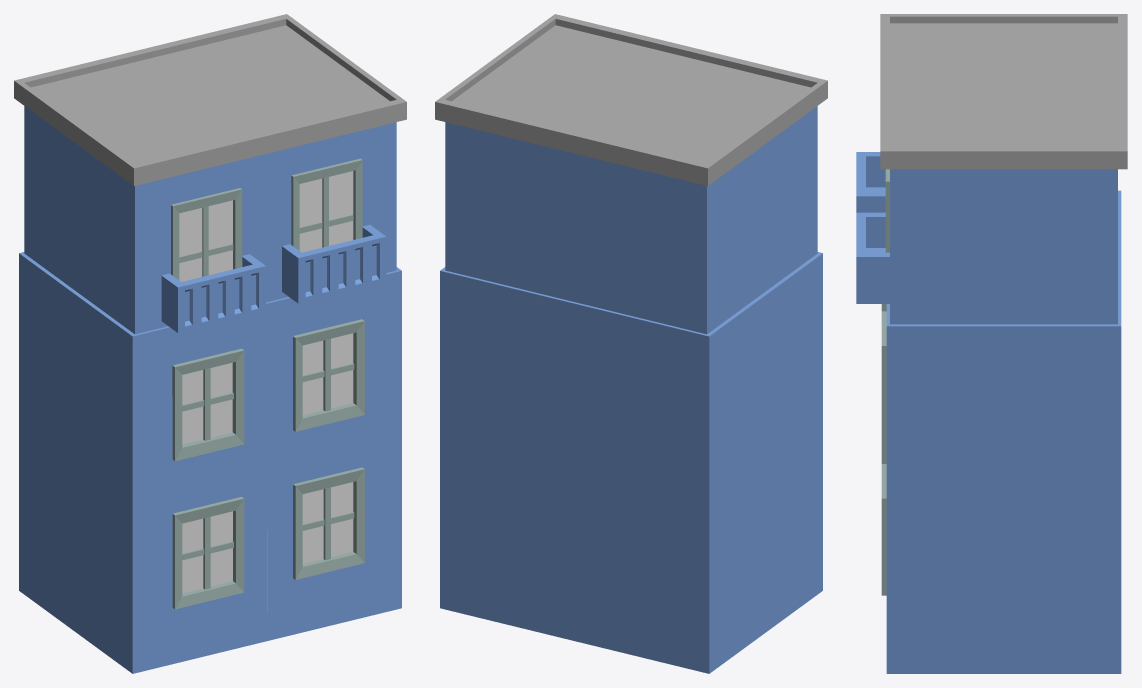
The model's file is buildingBlue.fbx.
The picture shows the model from 3 angles, left to right: view 1: azimuth 30°, elevation 25°; view 2: azimuth 150°, elevation 25°; view 3: azimuth 270°, elevation 25°; orthographic projection. The views are drawn at different scales.
Parts seen in each view (by area): view 1: Cube; view 2: Cube; view 3: Cube.
Boxes of the visible parts, bbox=[...] form: Cube: bbox=[14, 14, 406, 673]; Cube: bbox=[435, 14, 827, 673]; Cube: bbox=[856, 14, 1127, 673].
Size of the model in its own units: 417 by 742 by 349.
